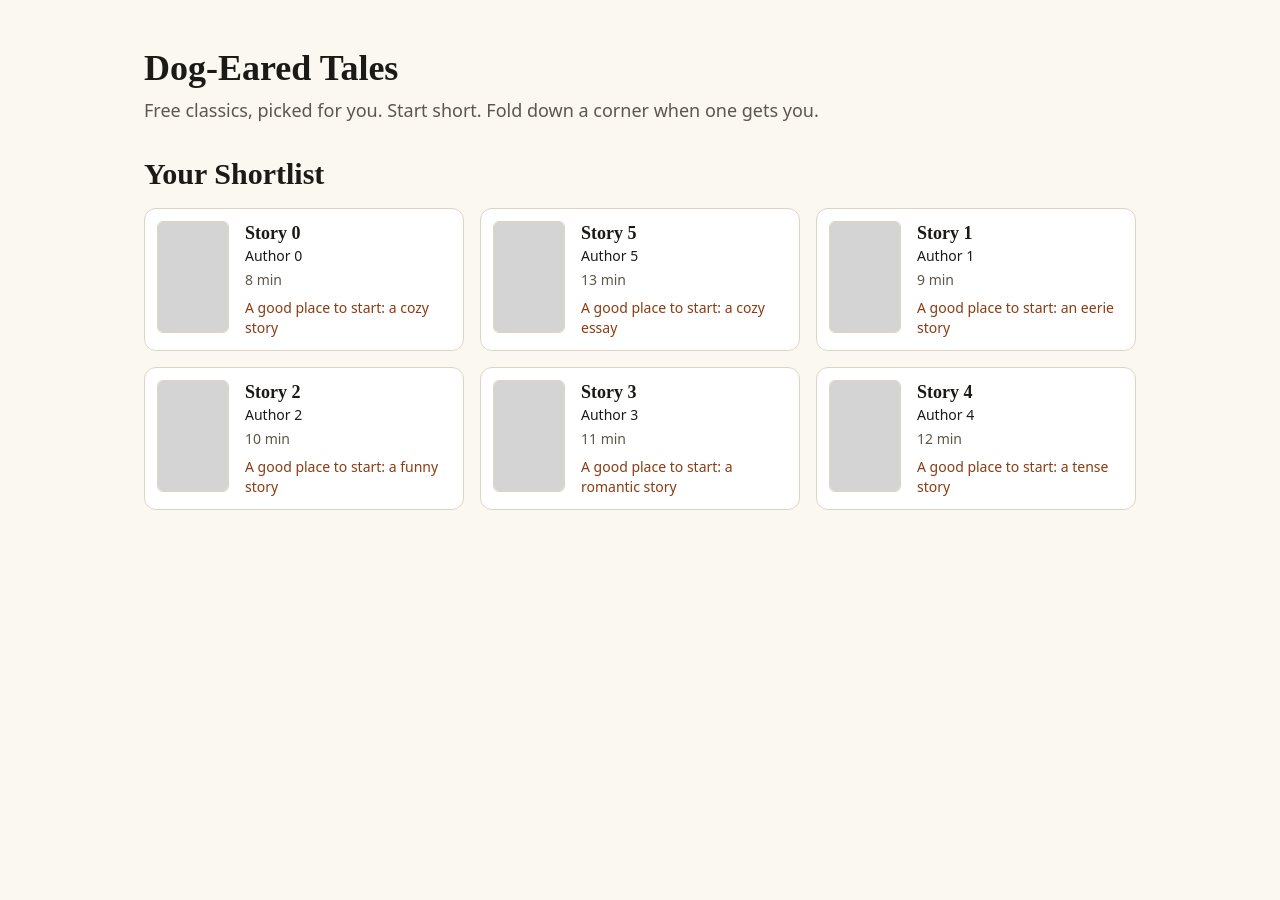
detail sheet › Dog-ear records save and adds the story to the library
What coordinates should you click on to do the following:
click the button "Story 0 Author 0 8 min A good place to start: a cozy story"
I would click on:
 (193, 277)
Its box is [144,208,464,351].
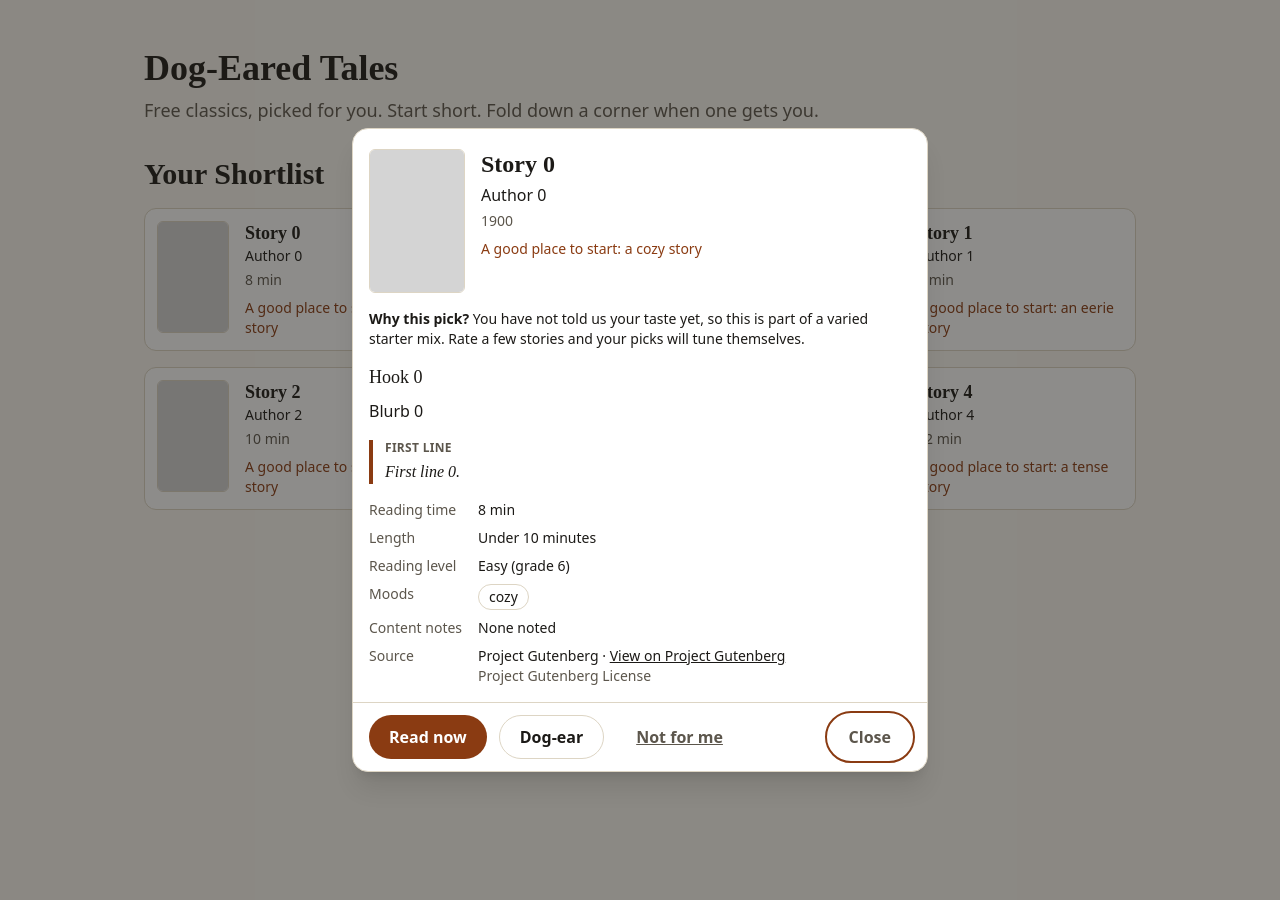
What coordinates should you click on to do the following:
click the button "Dog-ear"
I would click on:
 (552, 737)
Its box is [499,715,604,759].
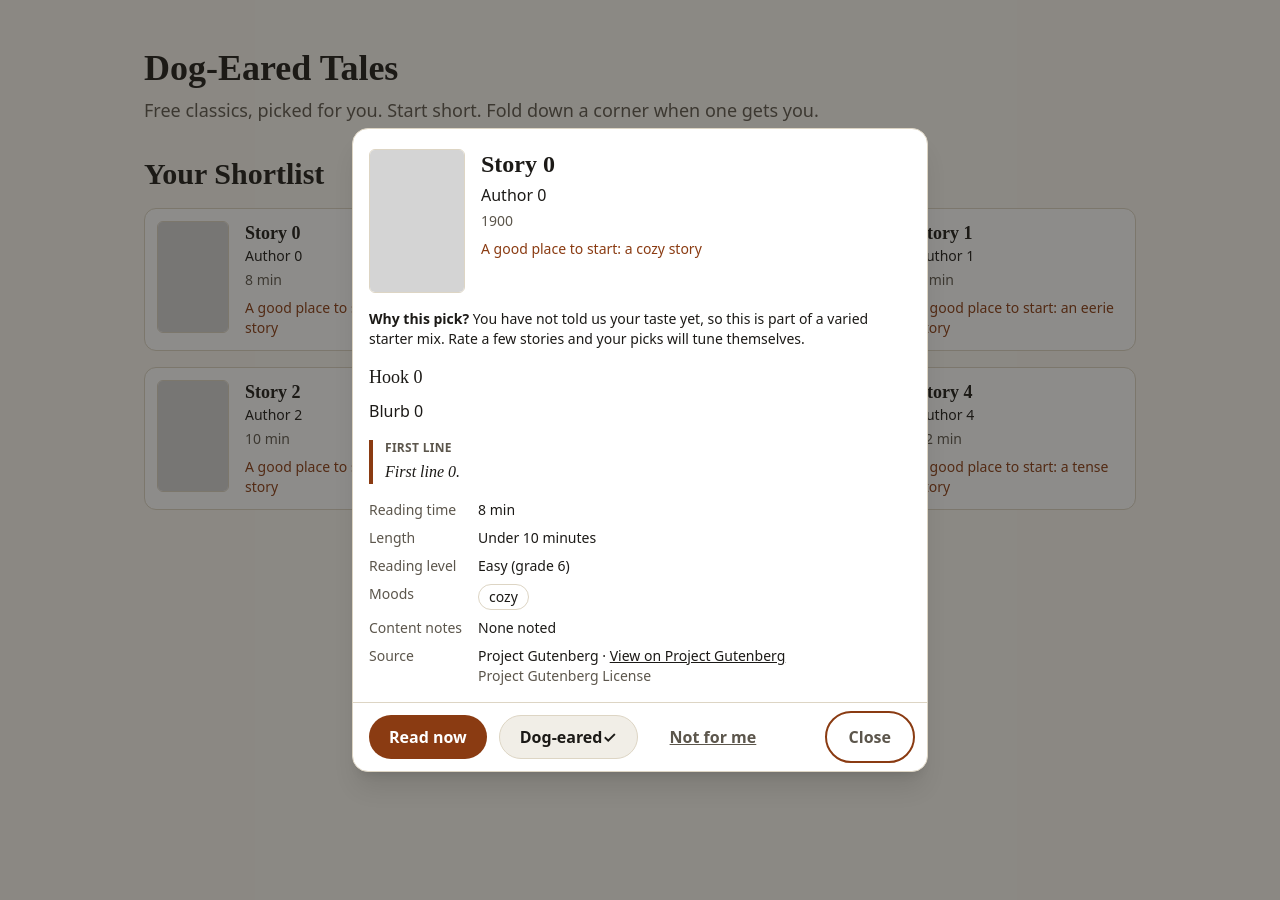
Now the button "Dog-eared ✓" is enabled, box [499,715,638,759]
Now the button "Dog-eared ✓" is shown, box [499,715,638,759]
